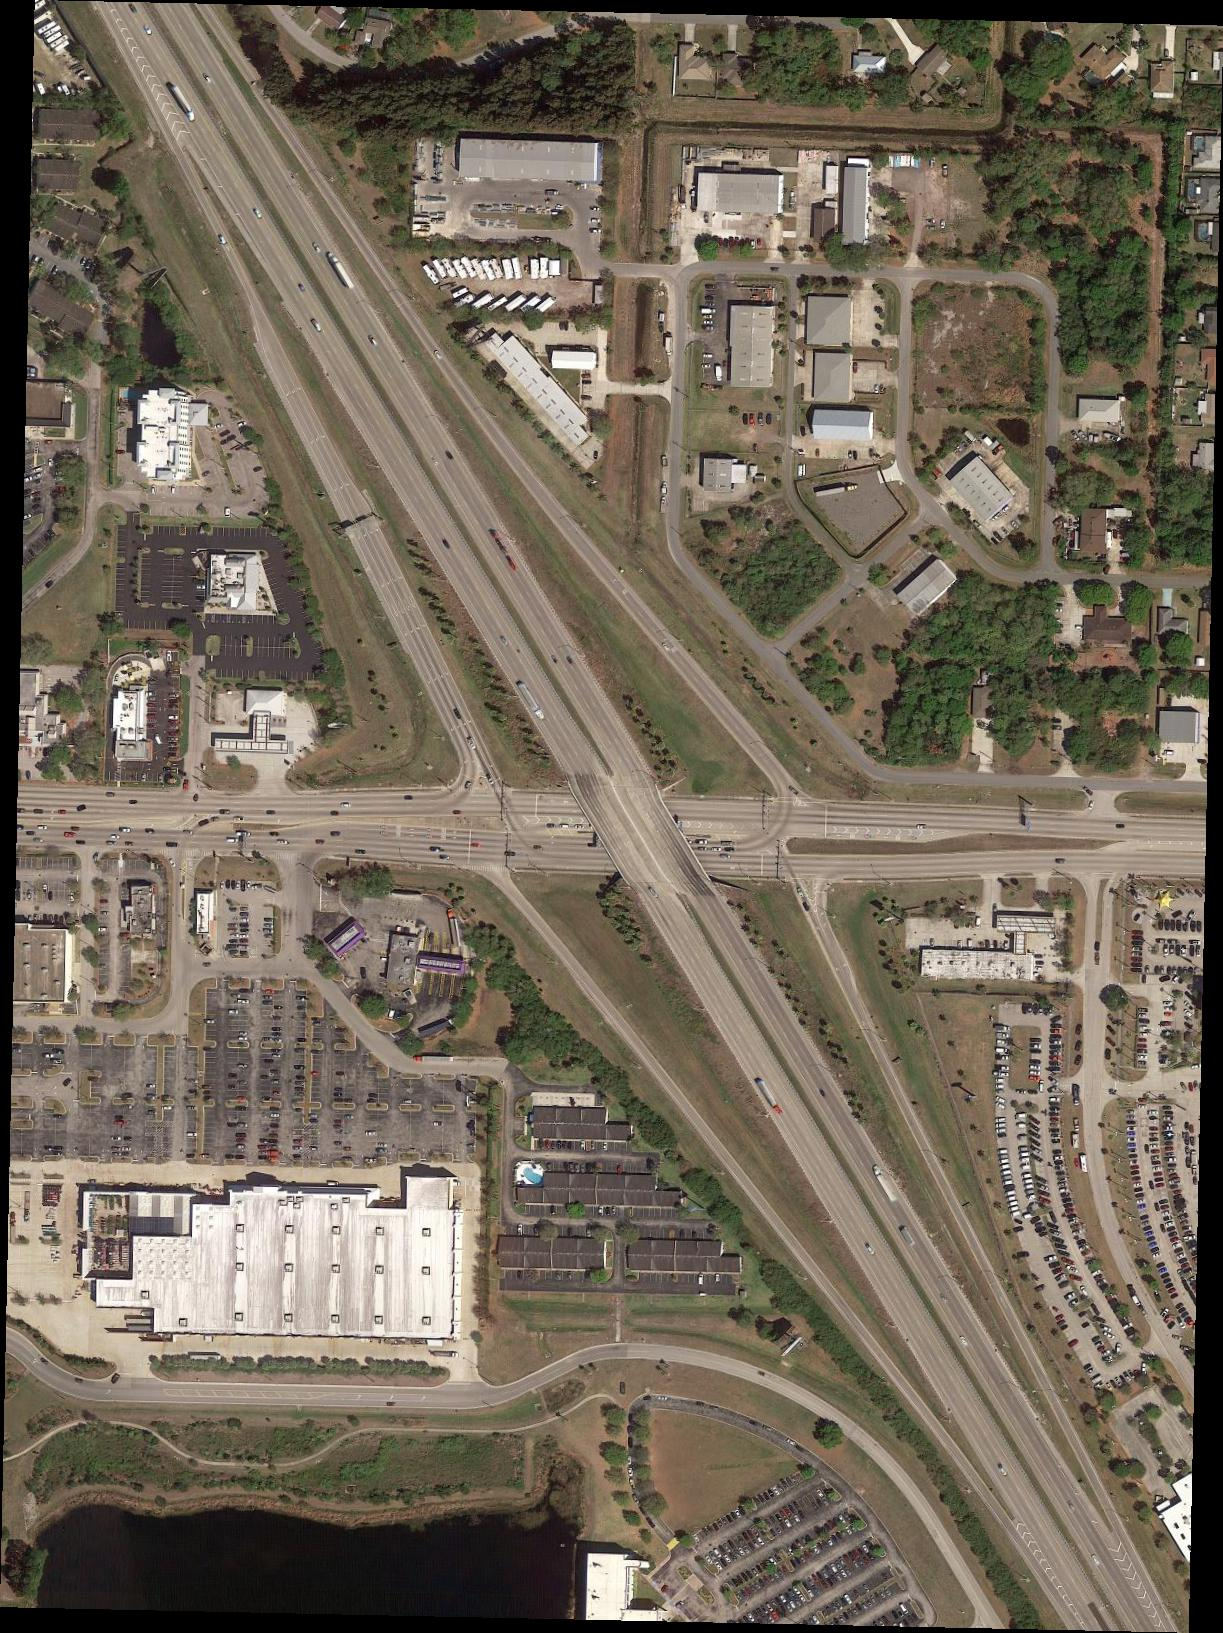ship: (1104, 432, 1123, 443)
